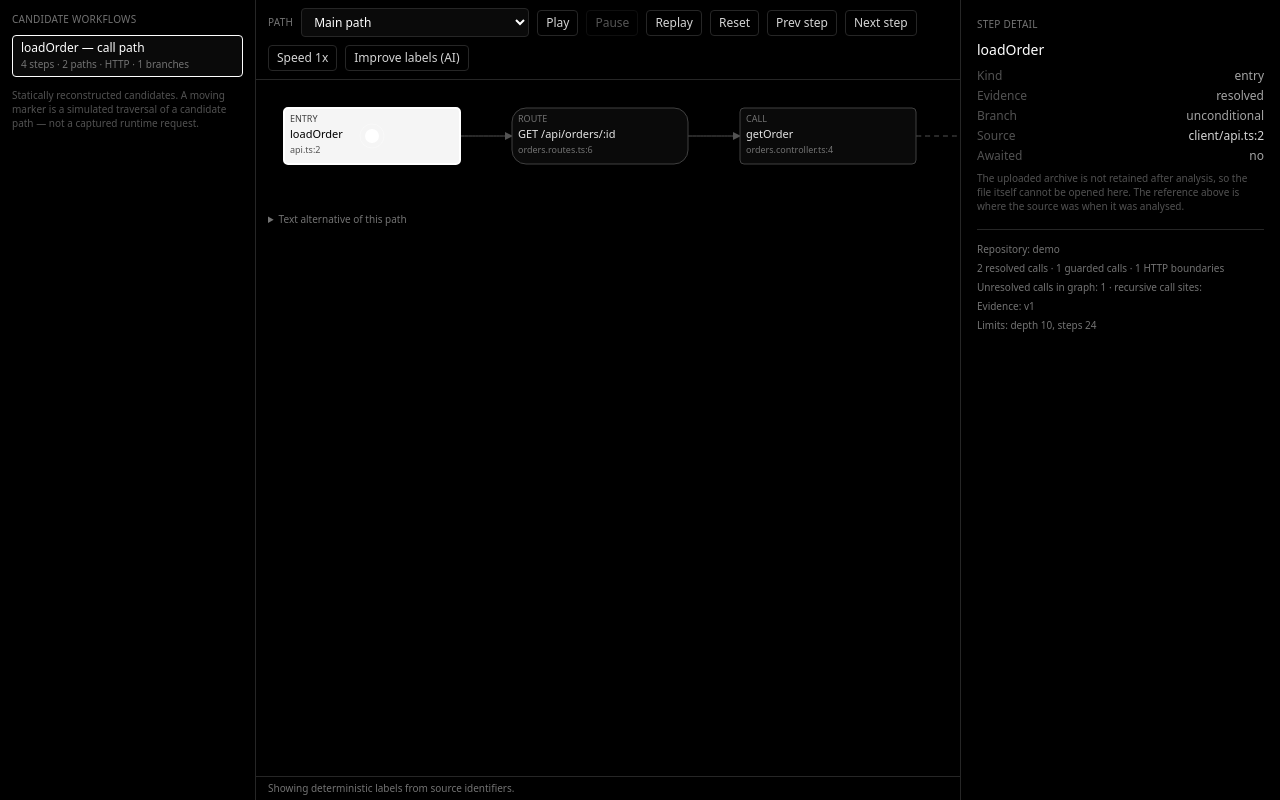
Test case: CoremationView › shows a text alternative of the path
Check: the text "loadOrder — call path" is shown, box [21,39,145,56]
Click the heading "Text alternative of this path" at (343, 219), box [279,212,407,226]
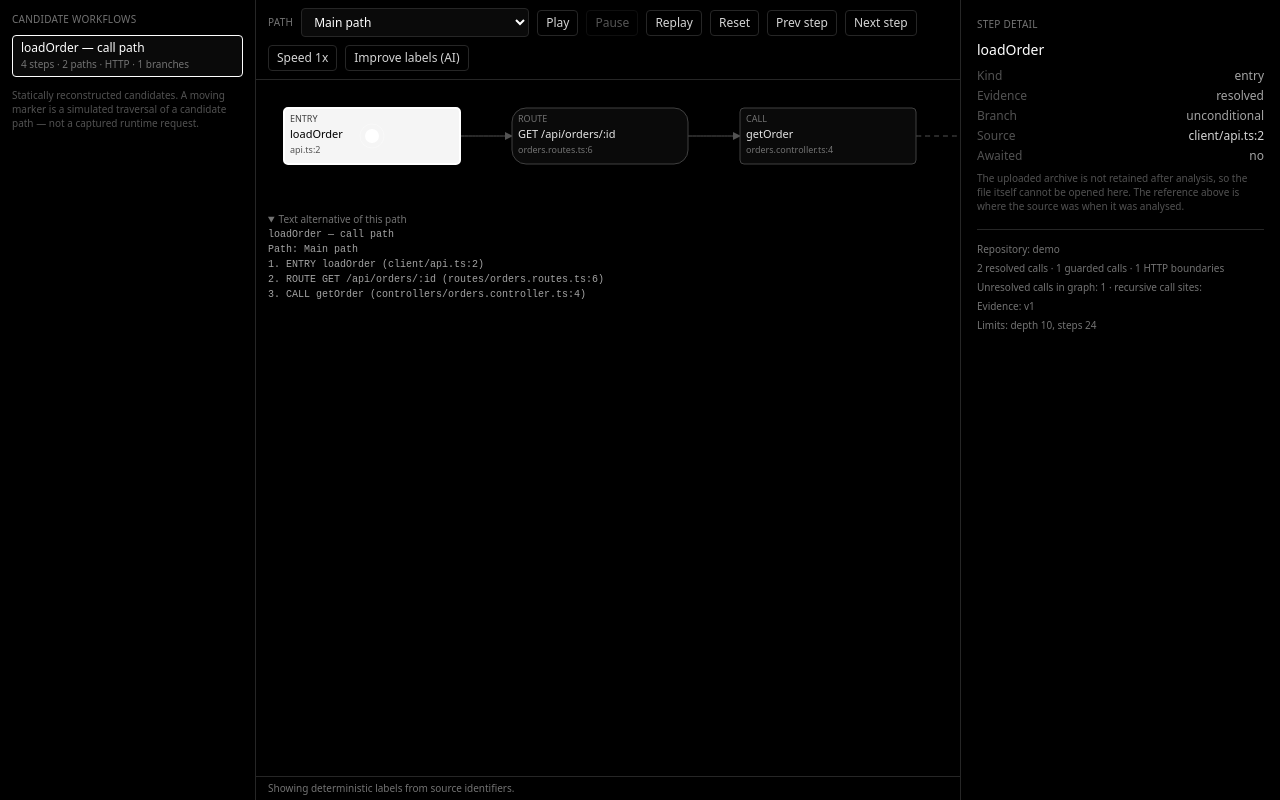
Check: the text "1. ENTRY loadOrder (client/api.ts:2)" is shown, box [268,229,604,300]
